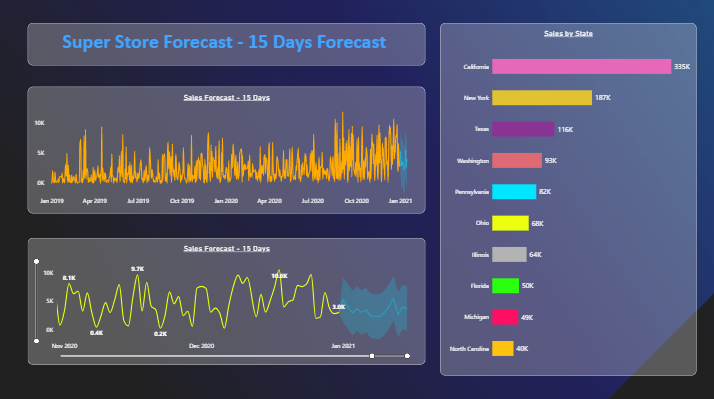

Layout of this report page (visuals, bound fields, positions):
{"tool":"powerbi","page":{"name":"Sales Forecasting ","canvas":[1920,1080],"ordinal":2},"visuals":[{"type":"lineChart","title":"Sales Forecast - 15 Days","fields":{"Category":["SuperStore_Sales_Dataset (1).Order Date"],"Y":["Sum(SuperStore_Sales_Dataset (1).Sales)"]},"box":[75,235,1060,337.6],"z":0},{"type":"lineChart","title":"Sales Forecast - 15 Days","fields":{"Category":["SuperStore_Sales_Dataset (1).Order Date"],"Y":["Sum(SuperStore_Sales_Dataset (1).Sales)"]},"box":[75,640,1060,337.6],"z":1000},{"type":"clusteredBarChart","title":" Sales by State","fields":{"Category":["SuperStore_Sales_Dataset (1).State"],"Y":["Sum(SuperStore_Sales_Dataset (1).Sales)"]},"box":[1176.7,66.7,683.3,940],"z":2000},{"type":"textbox","box":[75,67.5,1060,112.5],"z":3000}]}

Visuals, with their boxes in screenshot pixels (x1, y1, x2, y2), scaled from the page's 1920x1080 canvas onto the 714x399 screenshot:
"Sales Forecast - 15 Days" lineChart: Rect(28, 87, 422, 212)
"Sales Forecast - 15 Days" lineChart: Rect(28, 236, 422, 361)
" Sales by State" clusteredBarChart: Rect(438, 25, 692, 372)
textbox: Rect(28, 25, 422, 66)
